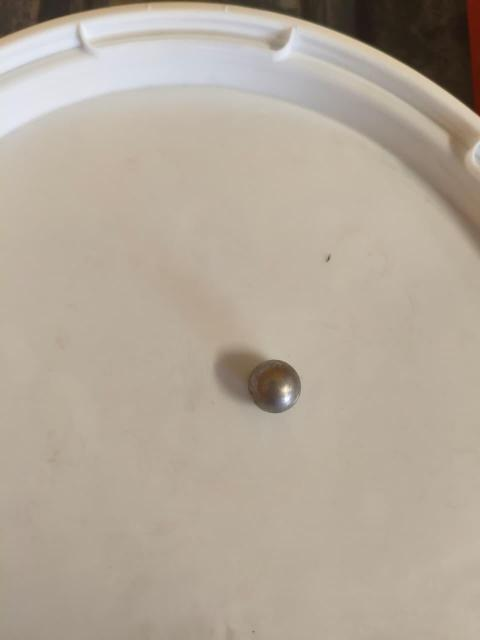Metal: (247, 357, 302, 413)
